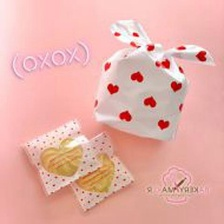snack: (87, 13, 221, 145), (17, 113, 105, 201), (62, 128, 140, 217)
